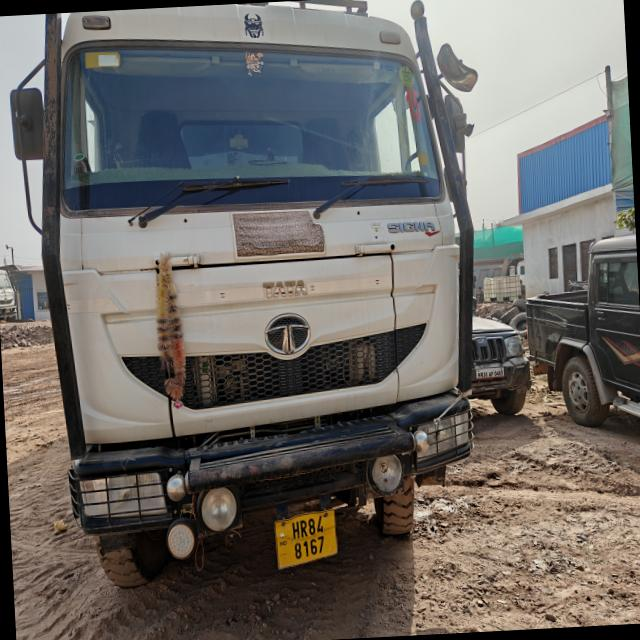license_plate: (275, 510, 337, 569), (477, 368, 504, 379)
